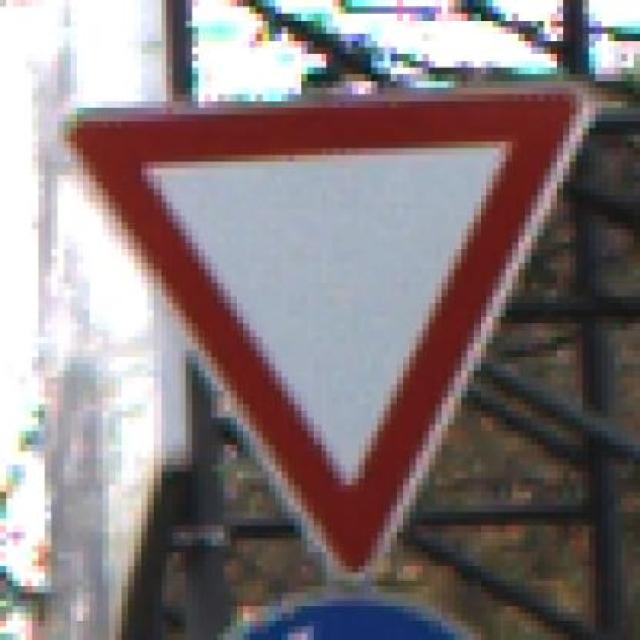Give Way: (45, 60, 608, 586)
